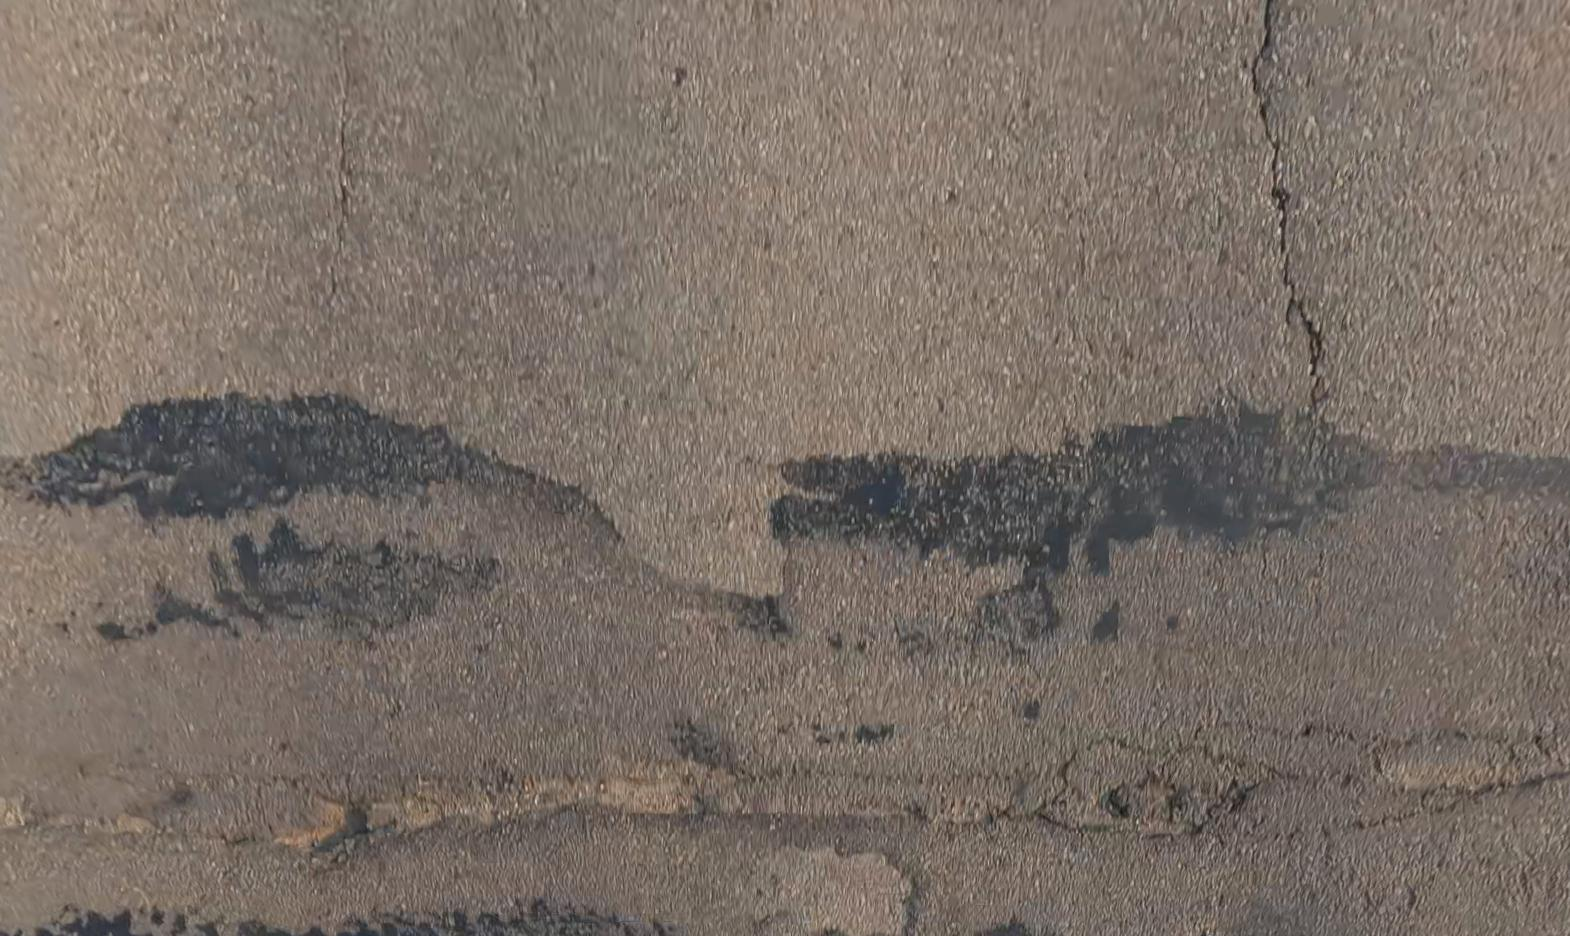pothole: (275, 797, 365, 848), (598, 777, 703, 815)
pothole_patch_poor: (0, 393, 1570, 934)
